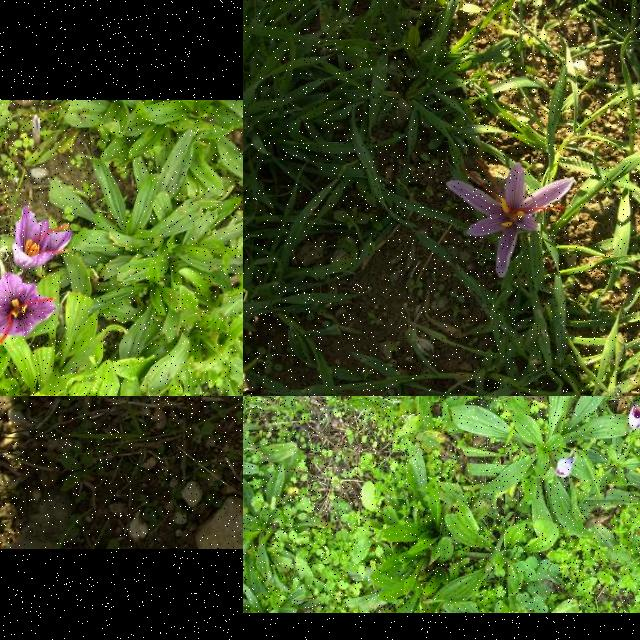flower: (445, 162, 573, 280), (0, 273, 58, 346), (12, 206, 74, 266), (556, 456, 574, 478), (627, 405, 640, 431)
